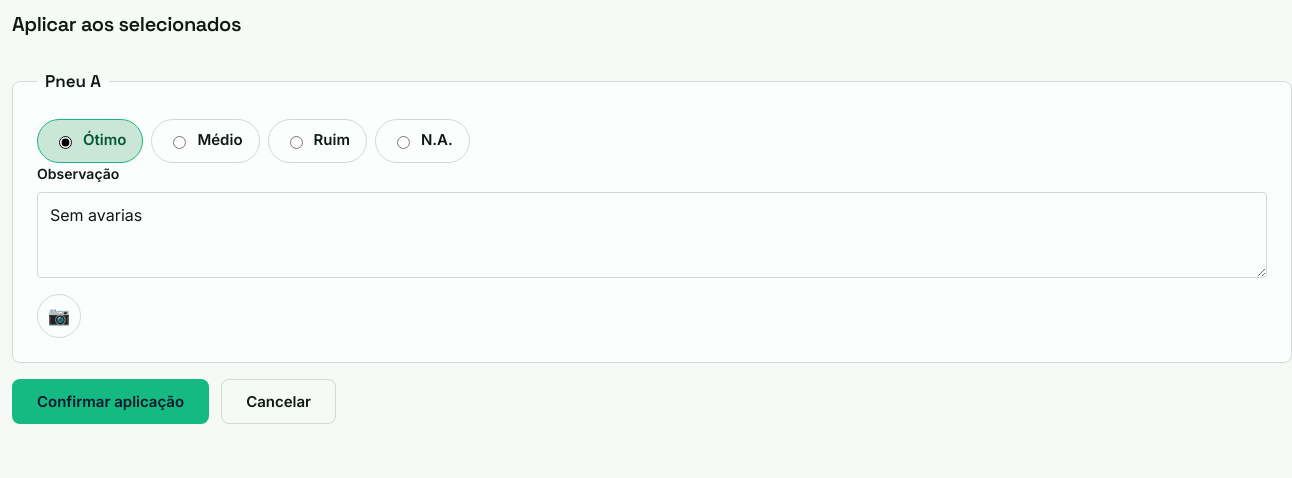
Test: BatchApplyPanel › shows the action's error message, naming the failing row
Step 1. Click the button "Confirmar aplicação" → (111, 401), box [12,378,209,424]
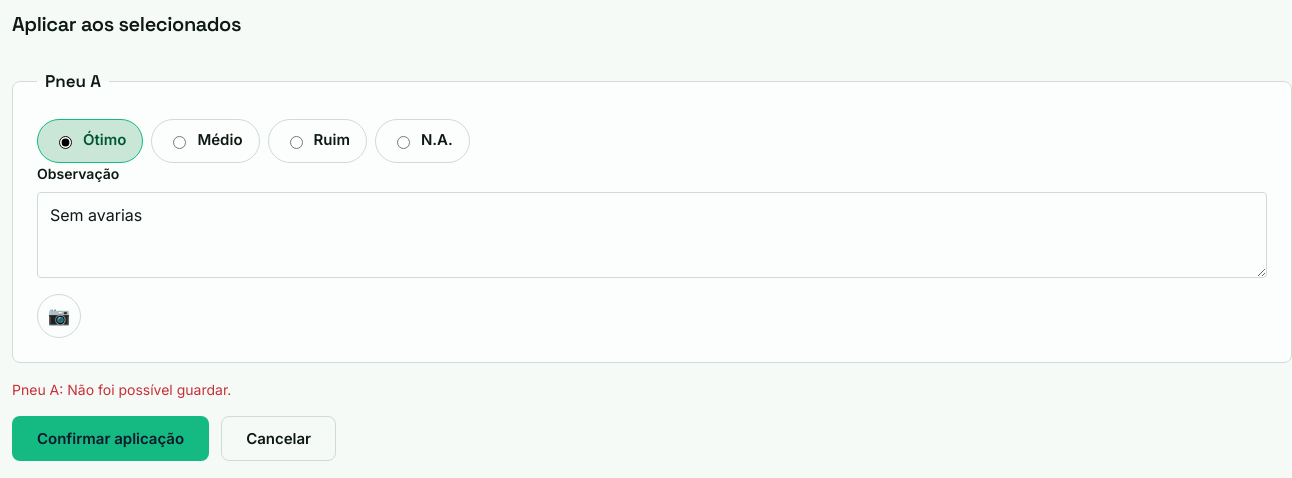
Now the message reads "Pneu A: Não foi possível guardar.", box [12,380,231,398]
